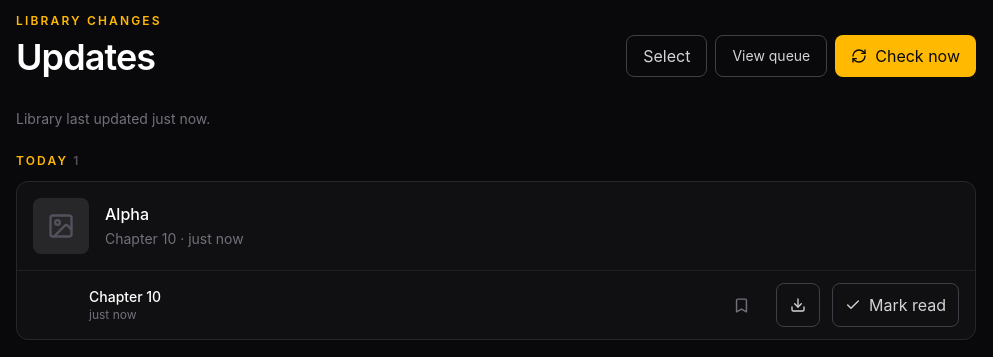
Test: UpdatesPage › toggles the bookmark from its row
Click the button named "Bookmark Chapter 10": x=742, y=305 [720, 283, 764, 327]
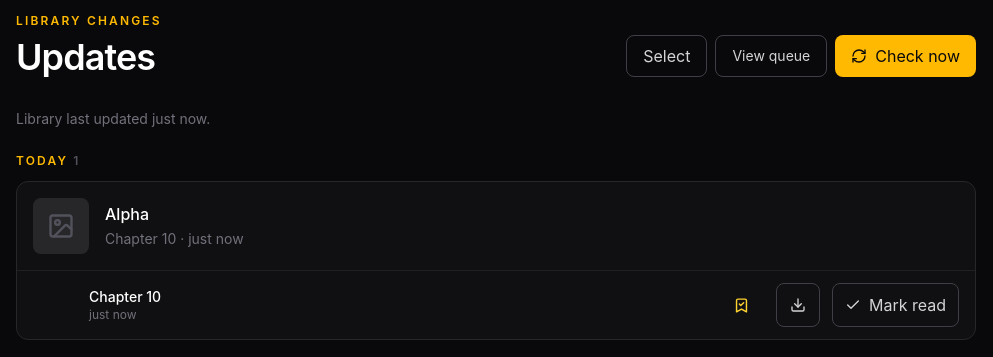
Now the button named "Remove bookmark from Chapter 10" is shown, box [720, 283, 764, 327]
